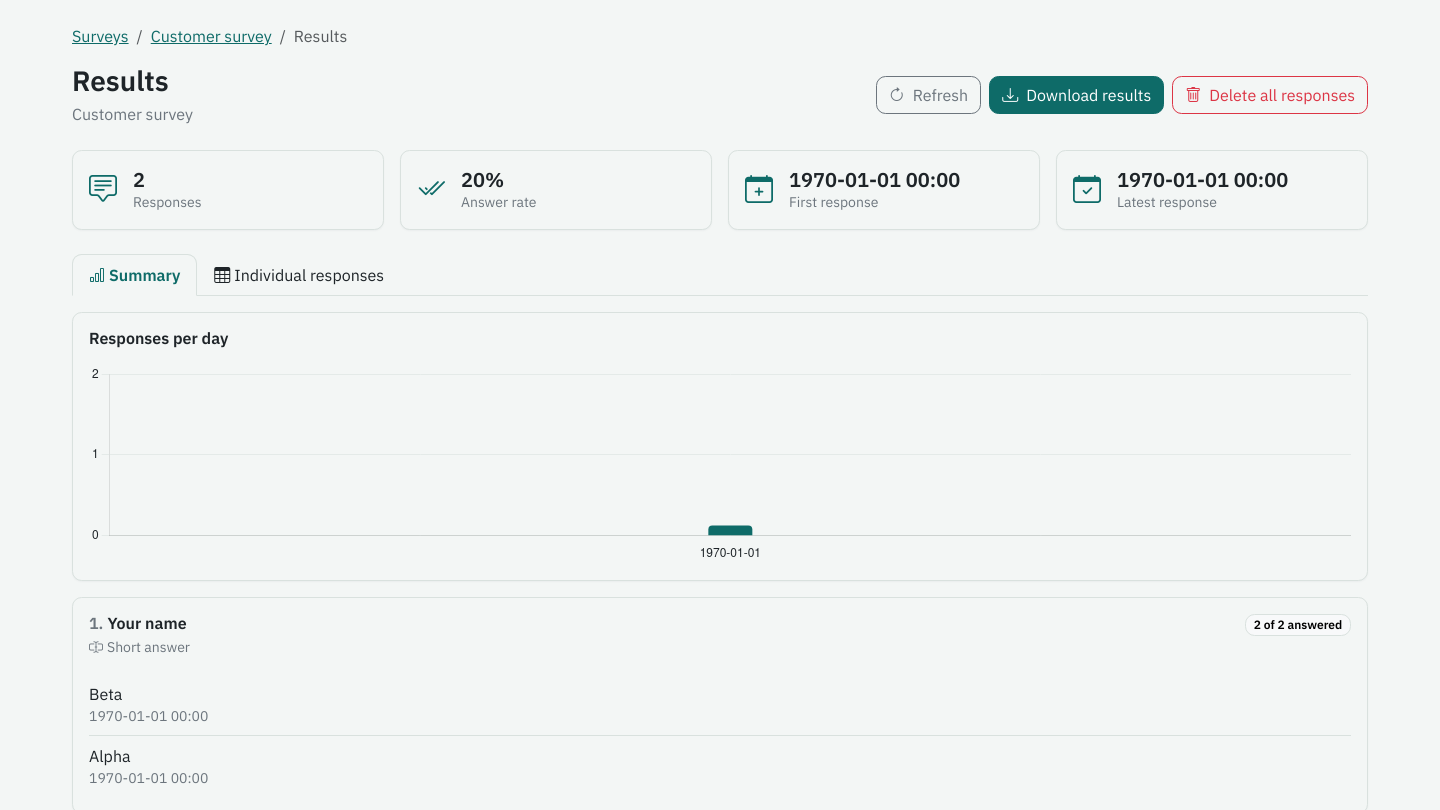
it: SurveyResults download dialog › offers every format: reports, text, CSV, TSV, SPSS, JSON, NDJSON, XML and a codebook
Check: the heading "1.Your name" is shown, box [89, 614, 190, 633]
Step 1. Click the button "Download results" → coordinates (1077, 95), box [989, 76, 1164, 114]
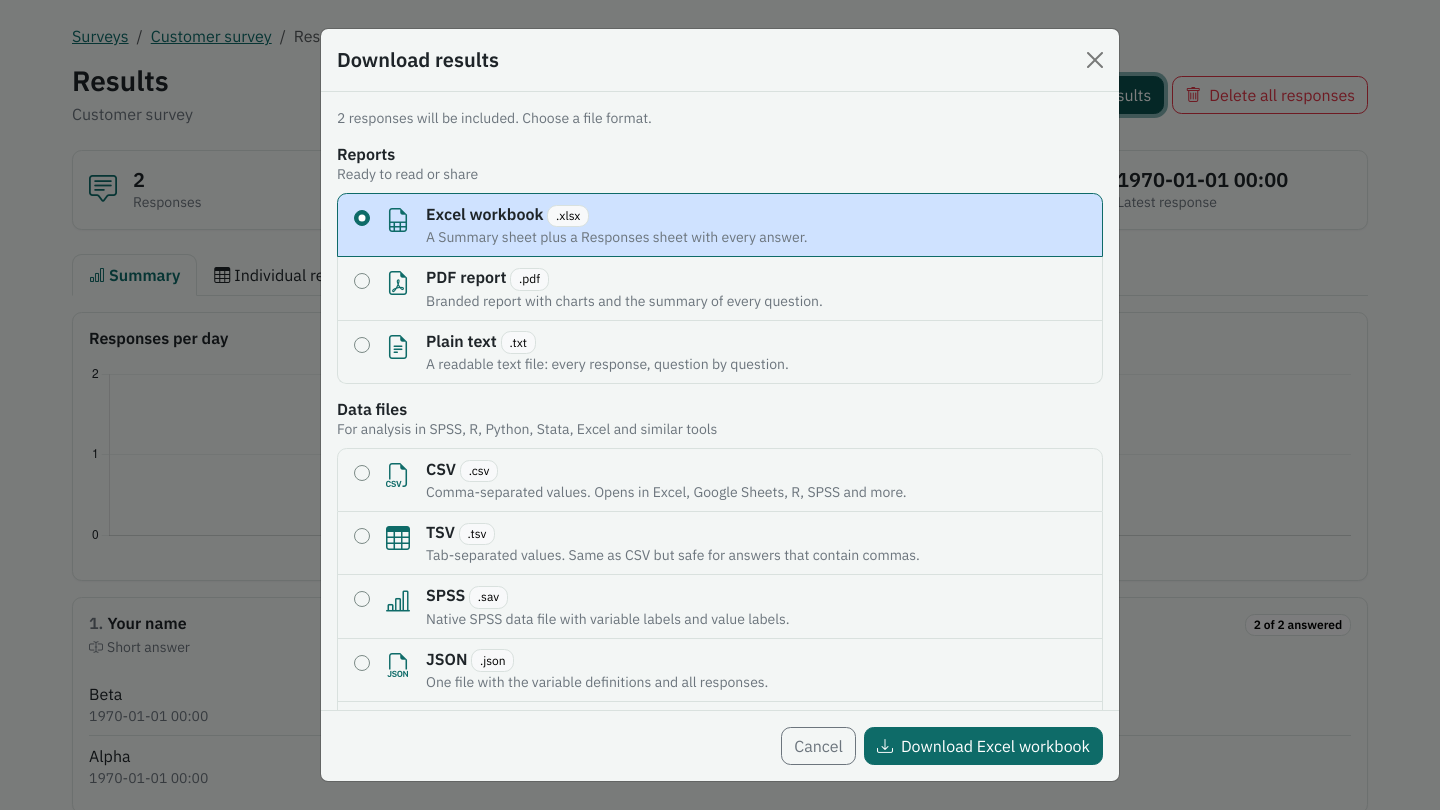
Check: the radio button labelled "PDF report .pdf" is shown, box [354, 273, 370, 289]
Check: the radio button labelled "Plain text .txt" is shown, box [354, 337, 370, 353]
Check: the radio button labelled "CSV .csv" is shown, box [354, 465, 370, 481]
